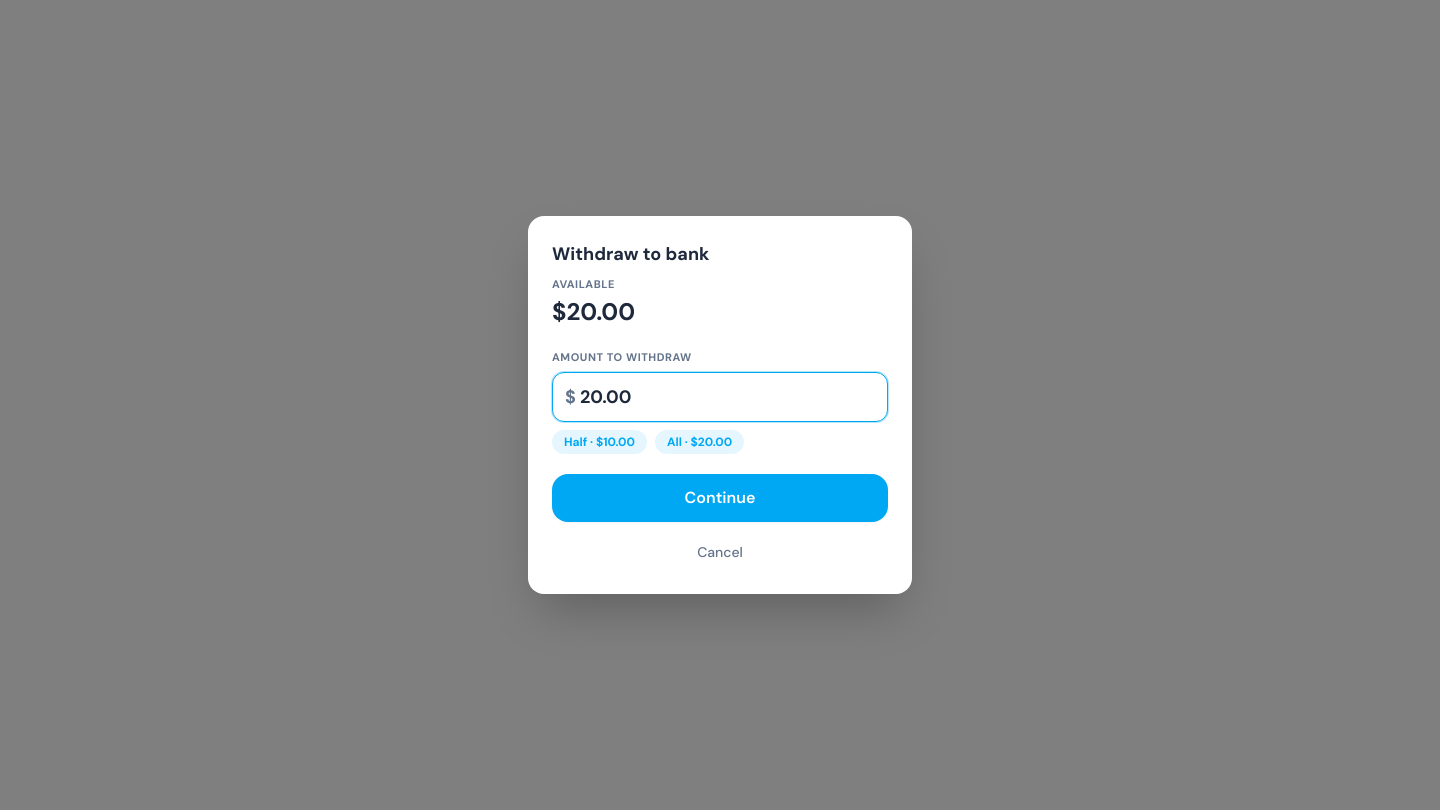
Test: WithdrawSheet (F5) › Continue opens the confirm dialog; Withdraw POSTs with the full amount
The image size is (1440, 810).
Continue opens the confirm dialog — no POST yet.
Click the button with test id "withdraw-sheet-confirm": (720, 498) [552, 474, 888, 522]
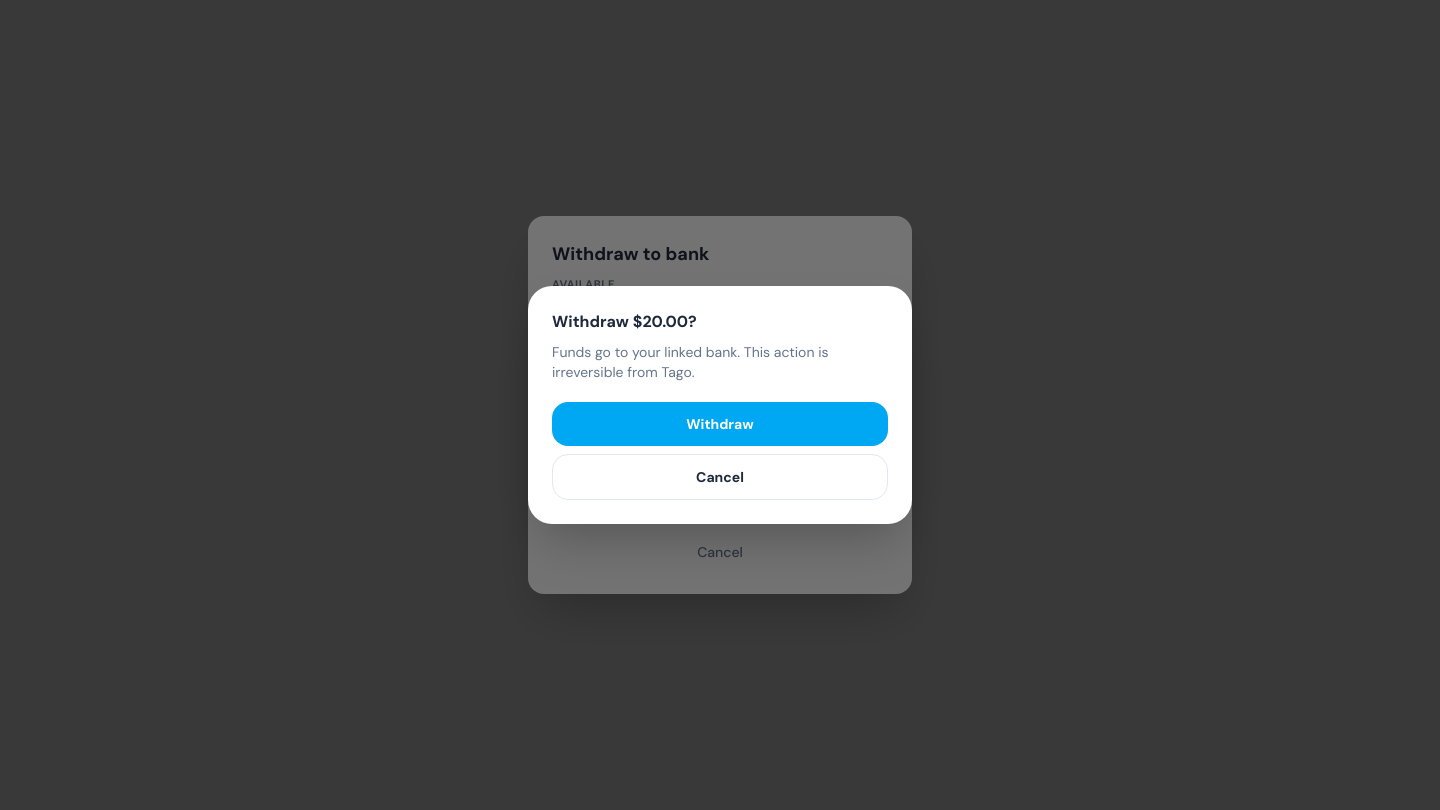
Expected: the dialog with test id "withdraw-confirm-dialog" is shown
Withdraw button inside the dialog actually POSTs.
Click the button with test id "withdraw-confirm-yes": (720, 424) [552, 402, 888, 446]
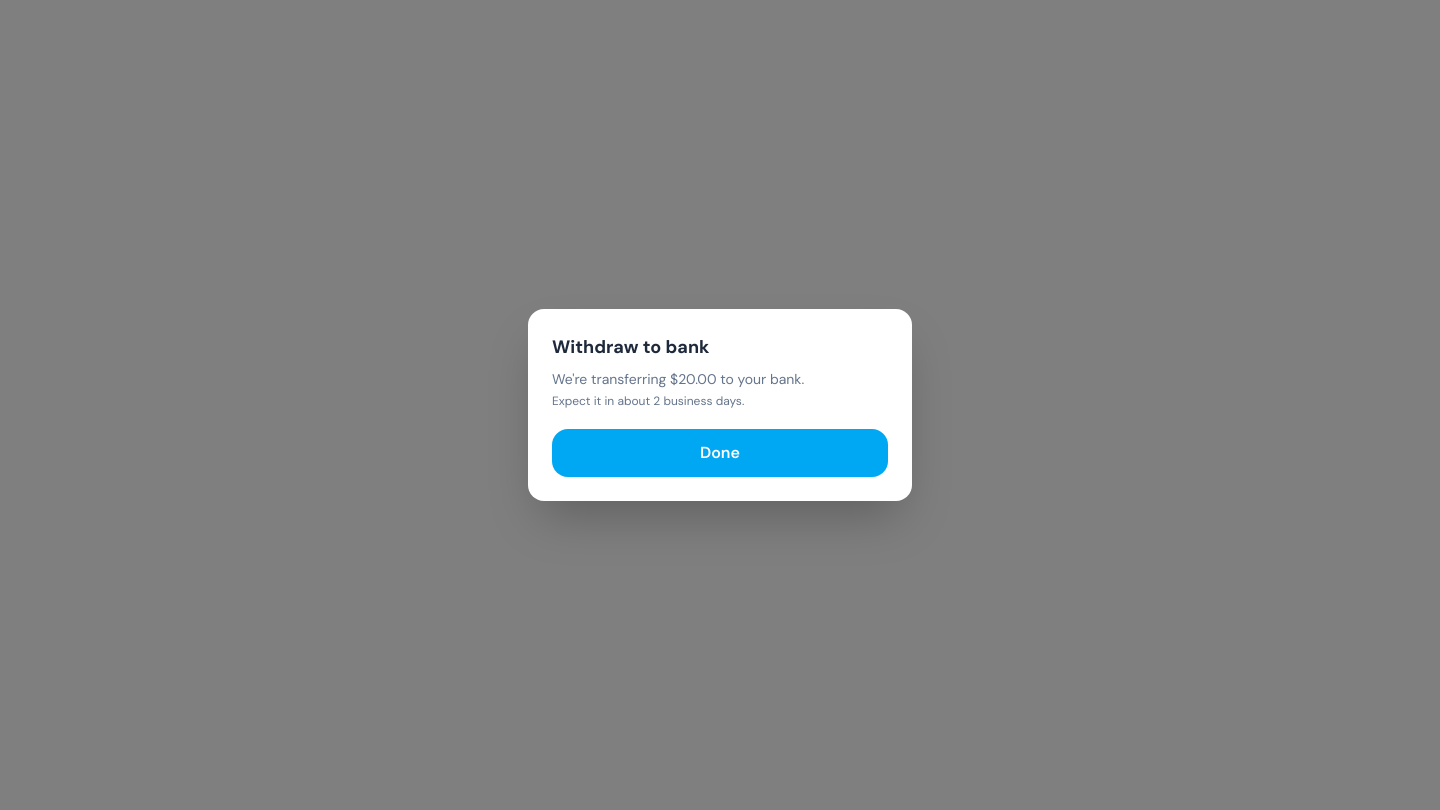
Expected: the button with test id "withdraw-sheet-done" is shown, [552, 429, 888, 477]
